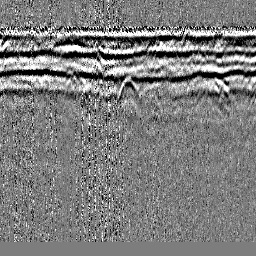cavity: (116, 75, 141, 102)
